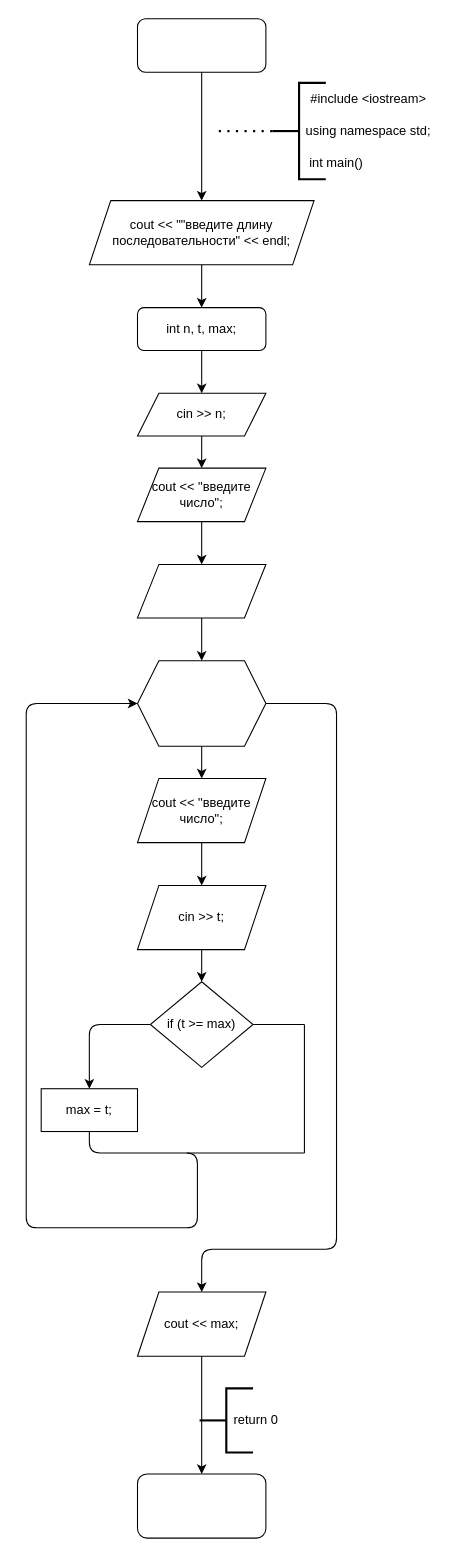
Some shapes in this 462 by 1557 pixel diagram are drawn without their labels. Each missing label, with the centre of its shape:
cin >> max;: the point at 201,590
for (int i = 2; i <= n; i++): the point at 201,703
конец: the point at 201,1505
начало: the point at 201,45
